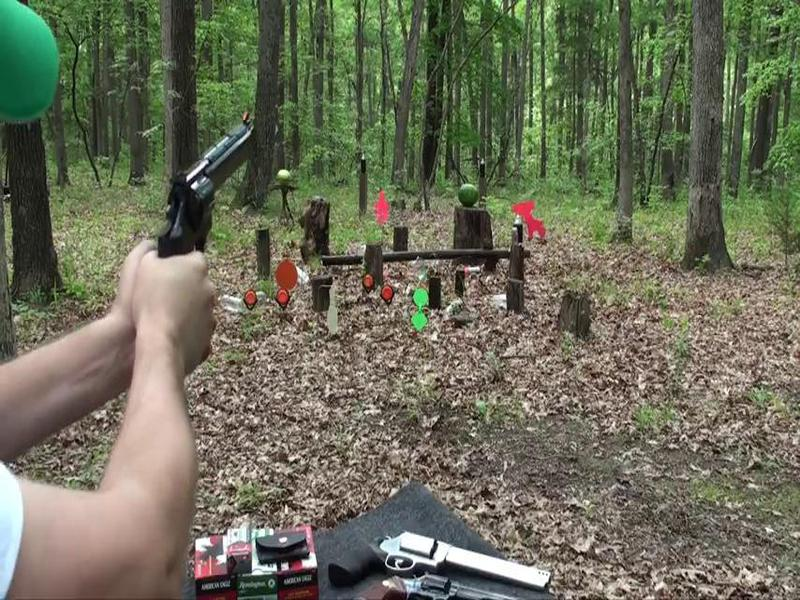Revolver: (143, 106, 284, 297)
